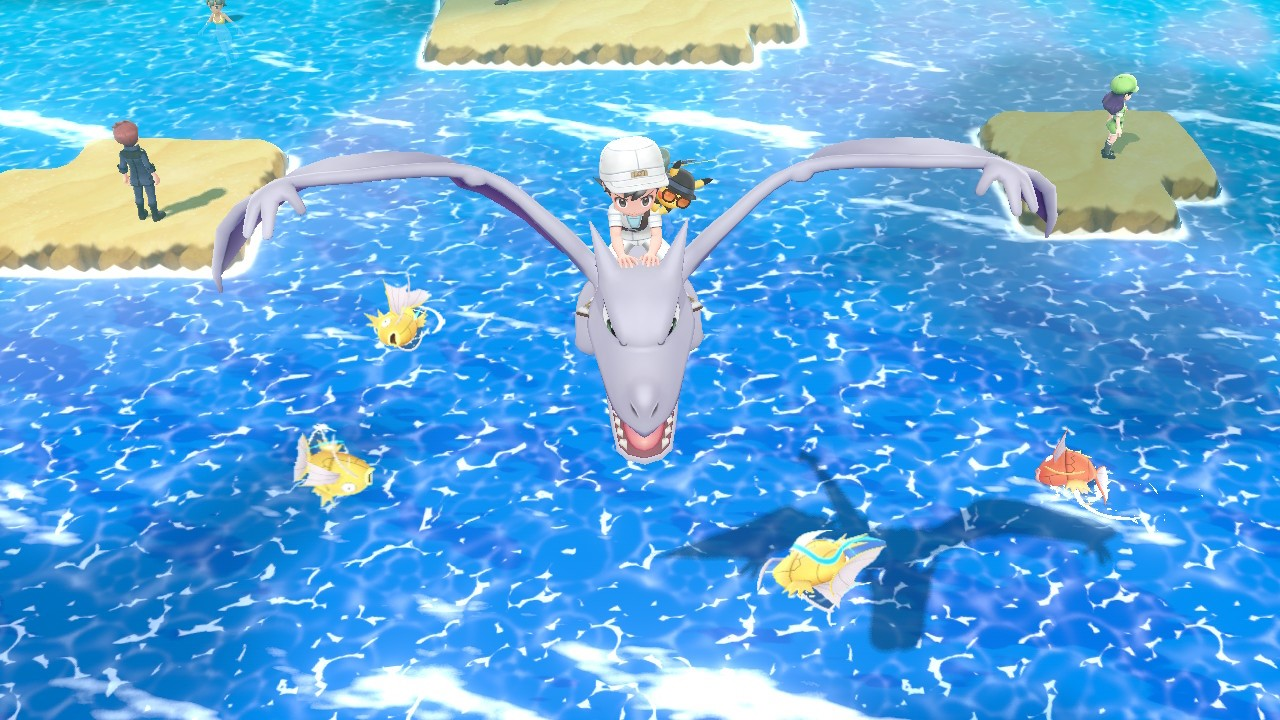Golden: (768, 528, 884, 608), (291, 431, 375, 508), (364, 278, 433, 354)
